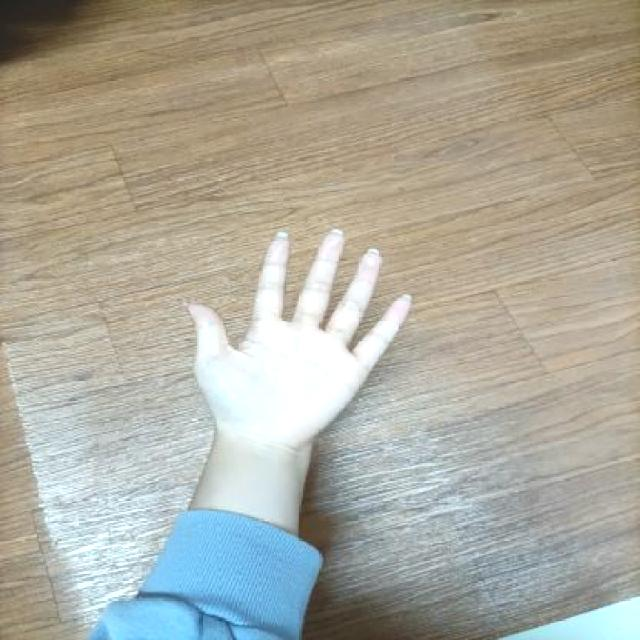no_glove: (174, 214, 426, 452)
